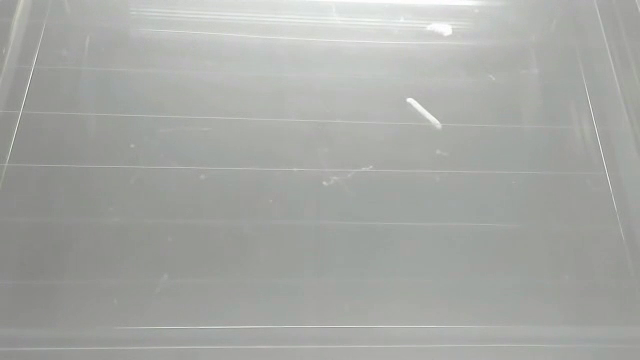alpha: (403, 94, 446, 133), (423, 19, 455, 39)
